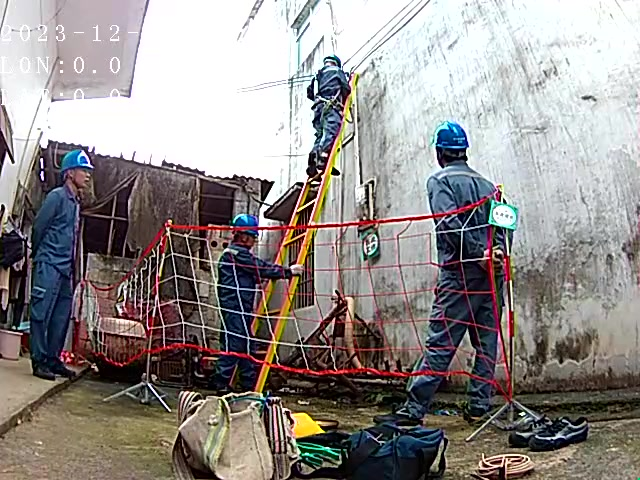downsuit: (409, 285, 507, 415), (31, 268, 74, 367), (215, 298, 259, 385), (312, 108, 344, 160)
halt: (434, 120, 472, 165), (61, 150, 95, 187), (60, 161, 95, 191), (230, 213, 261, 246), (323, 55, 342, 68)
intosign: (488, 201, 517, 227)
person: (402, 118, 521, 430), (31, 149, 98, 381), (207, 211, 285, 394), (306, 53, 355, 164)
support: (206, 209, 306, 390)
upsuit: (425, 162, 516, 258), (35, 185, 82, 264), (218, 245, 277, 296), (313, 66, 352, 106)
wglove: (290, 261, 305, 275)
worksign: (360, 232, 380, 260)
